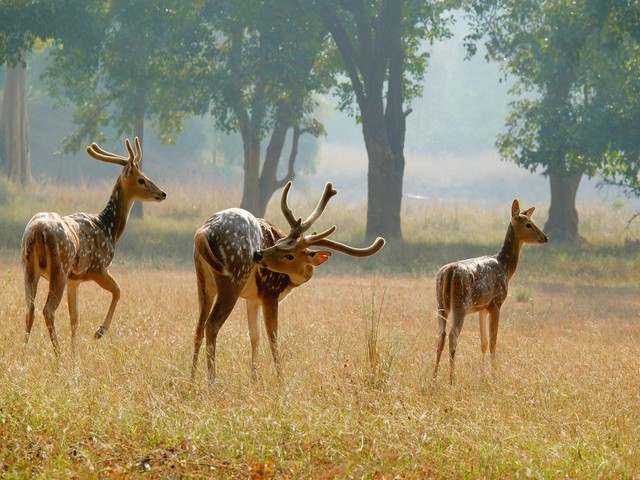deer: (185, 146, 392, 391), (11, 127, 171, 365), (425, 180, 557, 381)
